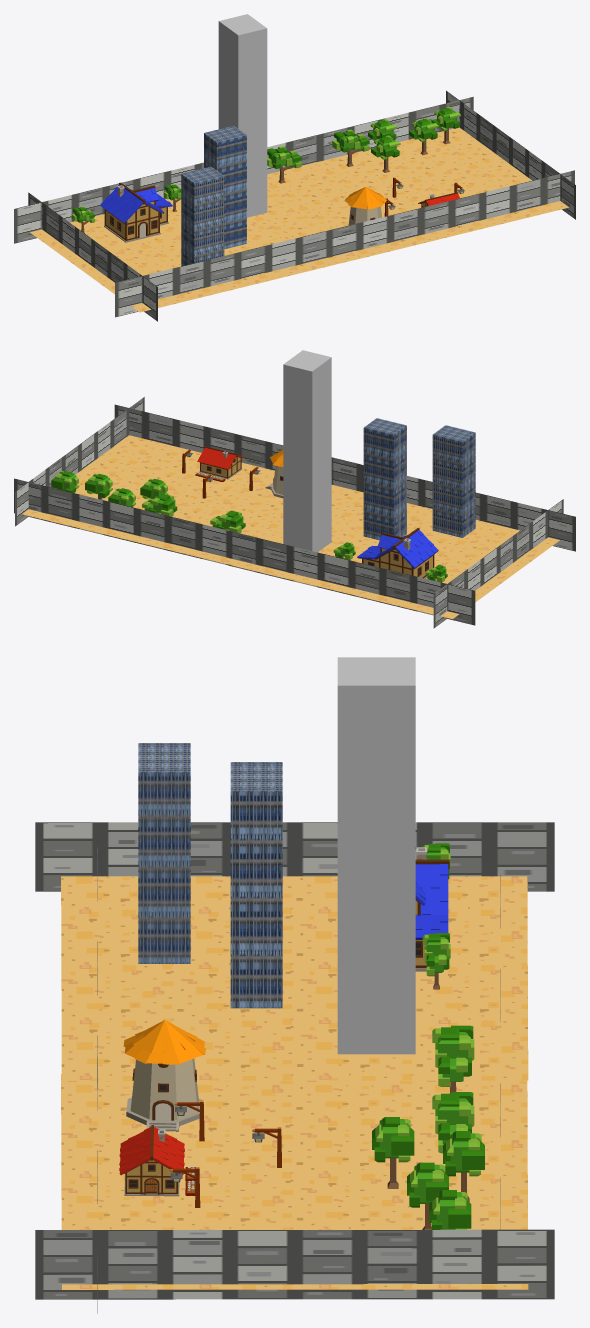
File: ground2.FBX
3 renders of one model, top to bottom at view 1: azimuth 30°, elevation 25°; view 2: azimuth 150°, elevation 25°; view 3: azimuth 270°, elevation 25°, orthographic. The views are drawn at different scales.
Visible parts, largest first — view 1: Floor_Soil_01, Floor_Soil_002, Box003, Floor_StonePaving_004, Floor_StonePaving_007, Box002, Box001, Floor_StonePaving_006, Floor_StonePaving_002, Floor_StonePaving_009, House_02, Floor_StonePaving_003 (+7 smaller); view 2: Floor_Soil_01, Box003, Floor_Soil_002, Floor_StonePaving_006, Floor_StonePaving_003, Box001, Box002, Floor_StonePaving_007, Floor_StonePaving_004, Floor_StonePaving_009, Floor_StonePaving_002, House_02 (+8 smaller); view 3: Floor_Soil_002, Floor_Soil_01, Floor_StonePaving_002, Box003, Floor_StonePaving_009, Box001, Box002, Windmill_01, House_01, House_02, Tree_02, Tree.006 (+5 smaller).
Boxes of the visible parts, x1=… form: Floor_Soil_01: x1=267, y1=127, x2=568, y2=260; Floor_Soil_002: x1=30, y1=190, x2=360, y2=312; Box003: x1=218, y1=14, x2=267, y2=217; Floor_StonePaving_004: x1=329, y1=170, x2=574, y2=257; Floor_StonePaving_007: x1=115, y1=223, x2=358, y2=317; Box002: x1=181, y1=166, x2=224, y2=266; Box001: x1=204, y1=125, x2=246, y2=249; Floor_StonePaving_006: x1=14, y1=162, x2=203, y2=243; Floor_StonePaving_002: x1=446, y1=90, x2=575, y2=219; Floor_StonePaving_009: x1=28, y1=192, x2=157, y2=321; House_02: x1=100, y1=182, x2=172, y2=242; Floor_StonePaving_003: x1=267, y1=96, x2=473, y2=174; Floor_Soil_01: x1=22, y1=435, x2=344, y2=566; Box003: x1=283, y1=350, x2=331, y2=552; Floor_Soil_002: x1=233, y1=486, x2=559, y2=618; Floor_StonePaving_006: x1=228, y1=531, x2=475, y2=625; Floor_StonePaving_003: x1=14, y1=478, x2=260, y2=565; Box001: x1=363, y1=418, x2=406, y2=540; Box002: x1=432, y1=425, x2=475, y2=537; Floor_StonePaving_007: x1=331, y1=457, x2=575, y2=551; Floor_StonePaving_004: x1=114, y1=404, x2=359, y2=470; Floor_StonePaving_009: x1=433, y1=499, x2=563, y2=628; Floor_StonePaving_002: x1=15, y1=397, x2=144, y2=526; House_02: x1=357, y1=528, x2=438, y2=578; Floor_Soil_002: x1=61, y1=876, x2=528, y2=1080; Floor_Soil_01: x1=61, y1=1073, x2=528, y2=1289; Floor_StonePaving_002: x1=35, y1=1229, x2=554, y2=1299; Box003: x1=337, y1=657, x2=415, y2=1054; Floor_StonePaving_009: x1=35, y1=822, x2=554, y2=891; Box001: x1=230, y1=762, x2=282, y2=1008; Box002: x1=138, y1=743, x2=190, y2=963; Windmill_01: x1=123, y1=1020, x2=205, y2=1131; House_01: x1=119, y1=1125, x2=184, y2=1196; House_02: x1=415, y1=847, x2=449, y2=971; Tree_02: x1=432, y1=1025, x2=474, y2=1093; Tree.006: x1=372, y1=1117, x2=414, y2=1188.
Bounding box in the file's own units: 7604 × 3712 × 3050.
